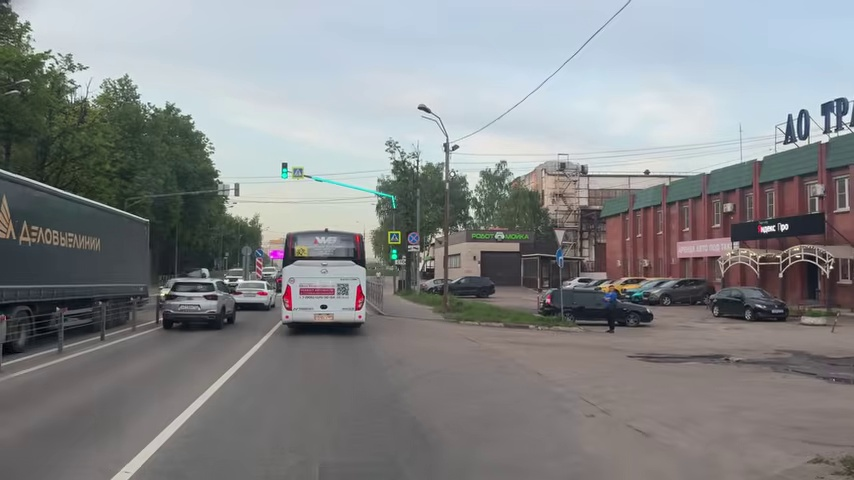apagada: (415, 102, 433, 119)
